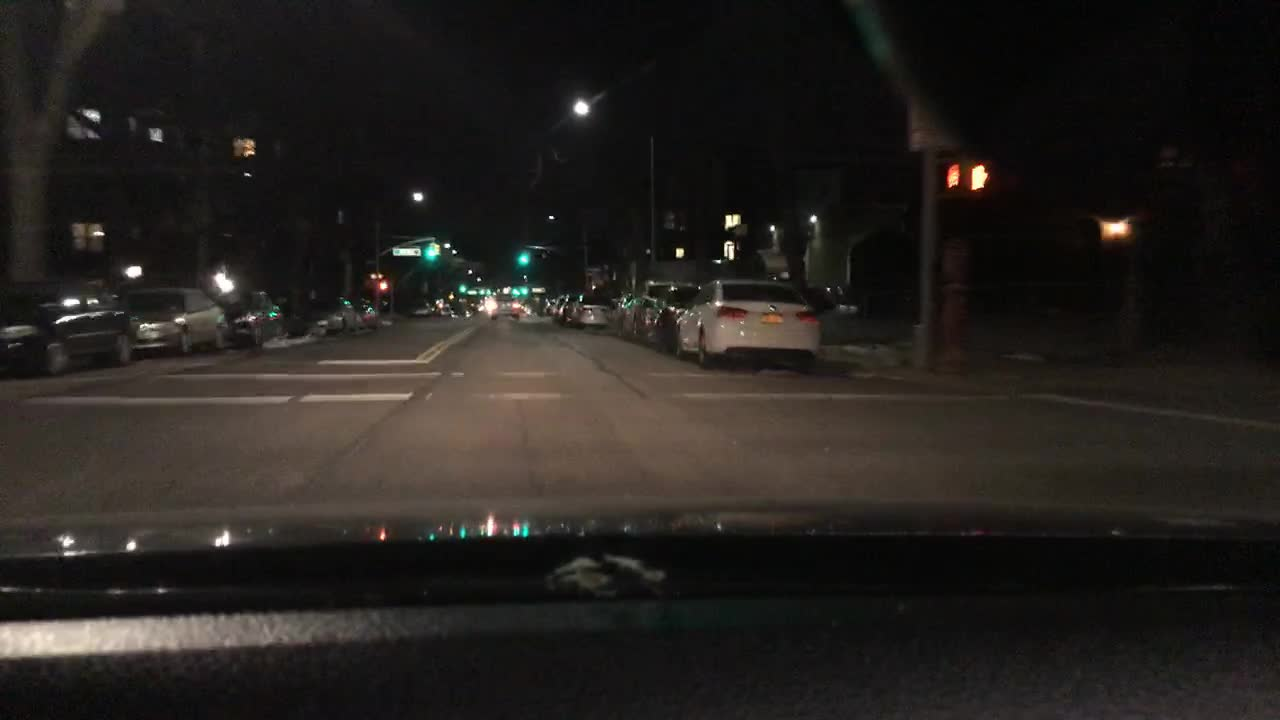car: (672, 276, 822, 373), (1, 289, 133, 371), (126, 289, 228, 357), (212, 287, 286, 348), (656, 283, 703, 353), (632, 280, 670, 341), (308, 299, 355, 338), (616, 290, 649, 343), (576, 292, 618, 332), (480, 289, 520, 321), (352, 297, 383, 332), (560, 292, 579, 324), (411, 299, 439, 320), (550, 296, 567, 317), (439, 299, 457, 318)
traffic light: (971, 156, 987, 198), (945, 158, 959, 195), (373, 279, 389, 293), (434, 244, 443, 259), (513, 249, 520, 268), (457, 284, 464, 298), (522, 251, 527, 268), (429, 245, 434, 261)
traffic sign: (1155, 141, 1250, 173), (659, 213, 687, 230), (393, 246, 422, 253)
